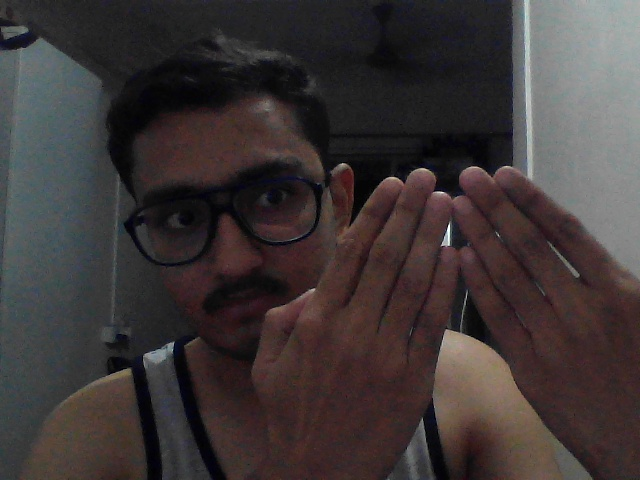Thank You: (259, 136, 640, 480)
